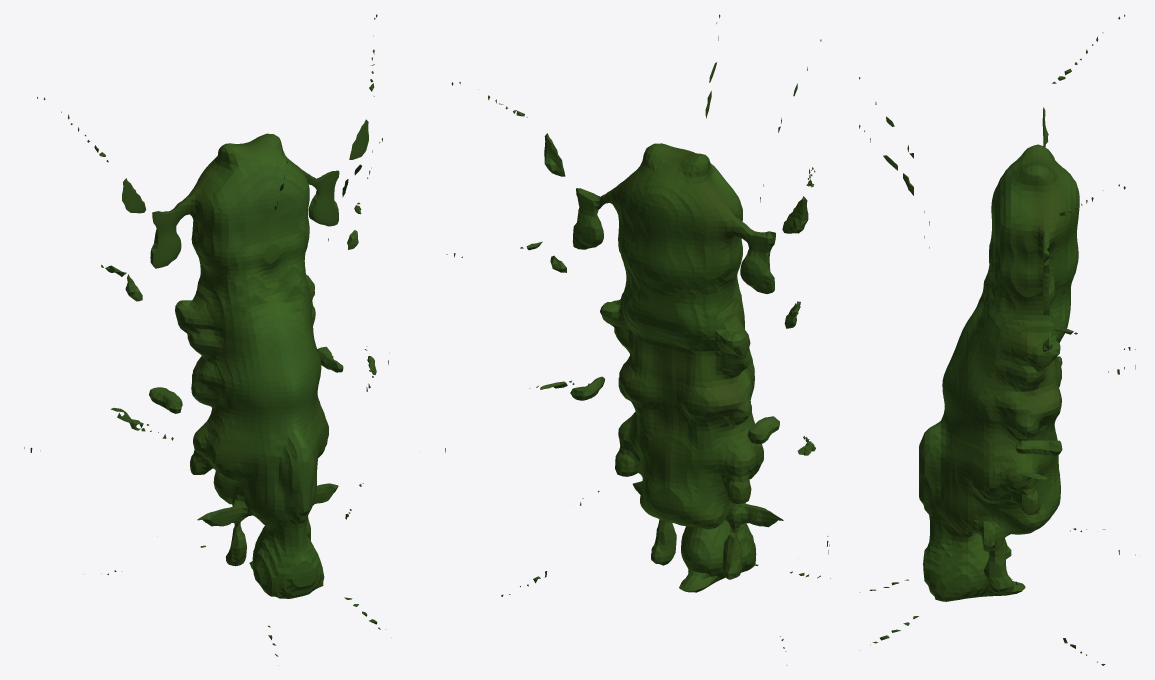
File: grasshopper.glb
3 views of the same model, side by side, from view 1: azimuth 30°, elevation 25°; view 2: azimuth 150°, elevation 25°; view 3: azimuth 270°, elevation 25° (orthographic). The views are drawn at different scales.
Parts seen in each view (by area): view 1: defaultobject; view 2: defaultobject; view 3: defaultobject.
Boxes of the visible parts, <box> form: defaultobject: <box>24,14,388,665</box>; defaultobject: <box>445,14,830,665</box>; defaultobject: <box>859,14,1135,665</box>.
Size of the model in its own units: 1.3 by 1.65 by 0.8084.
